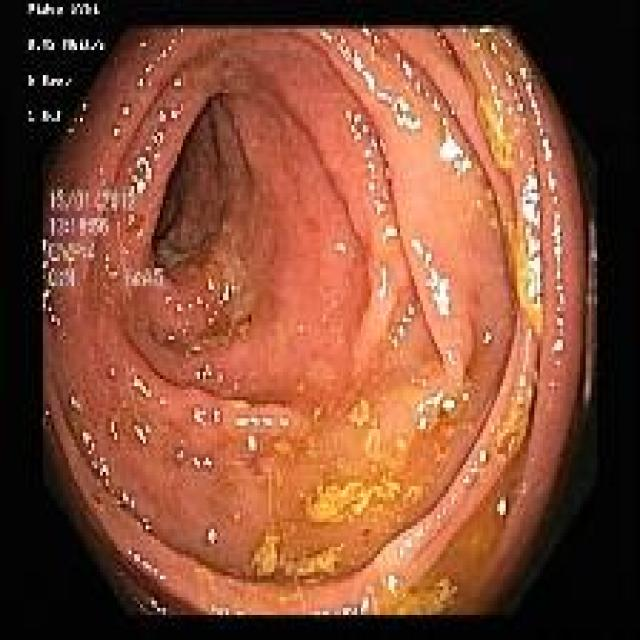ulcerative-colitis: (42, 28, 595, 615)
